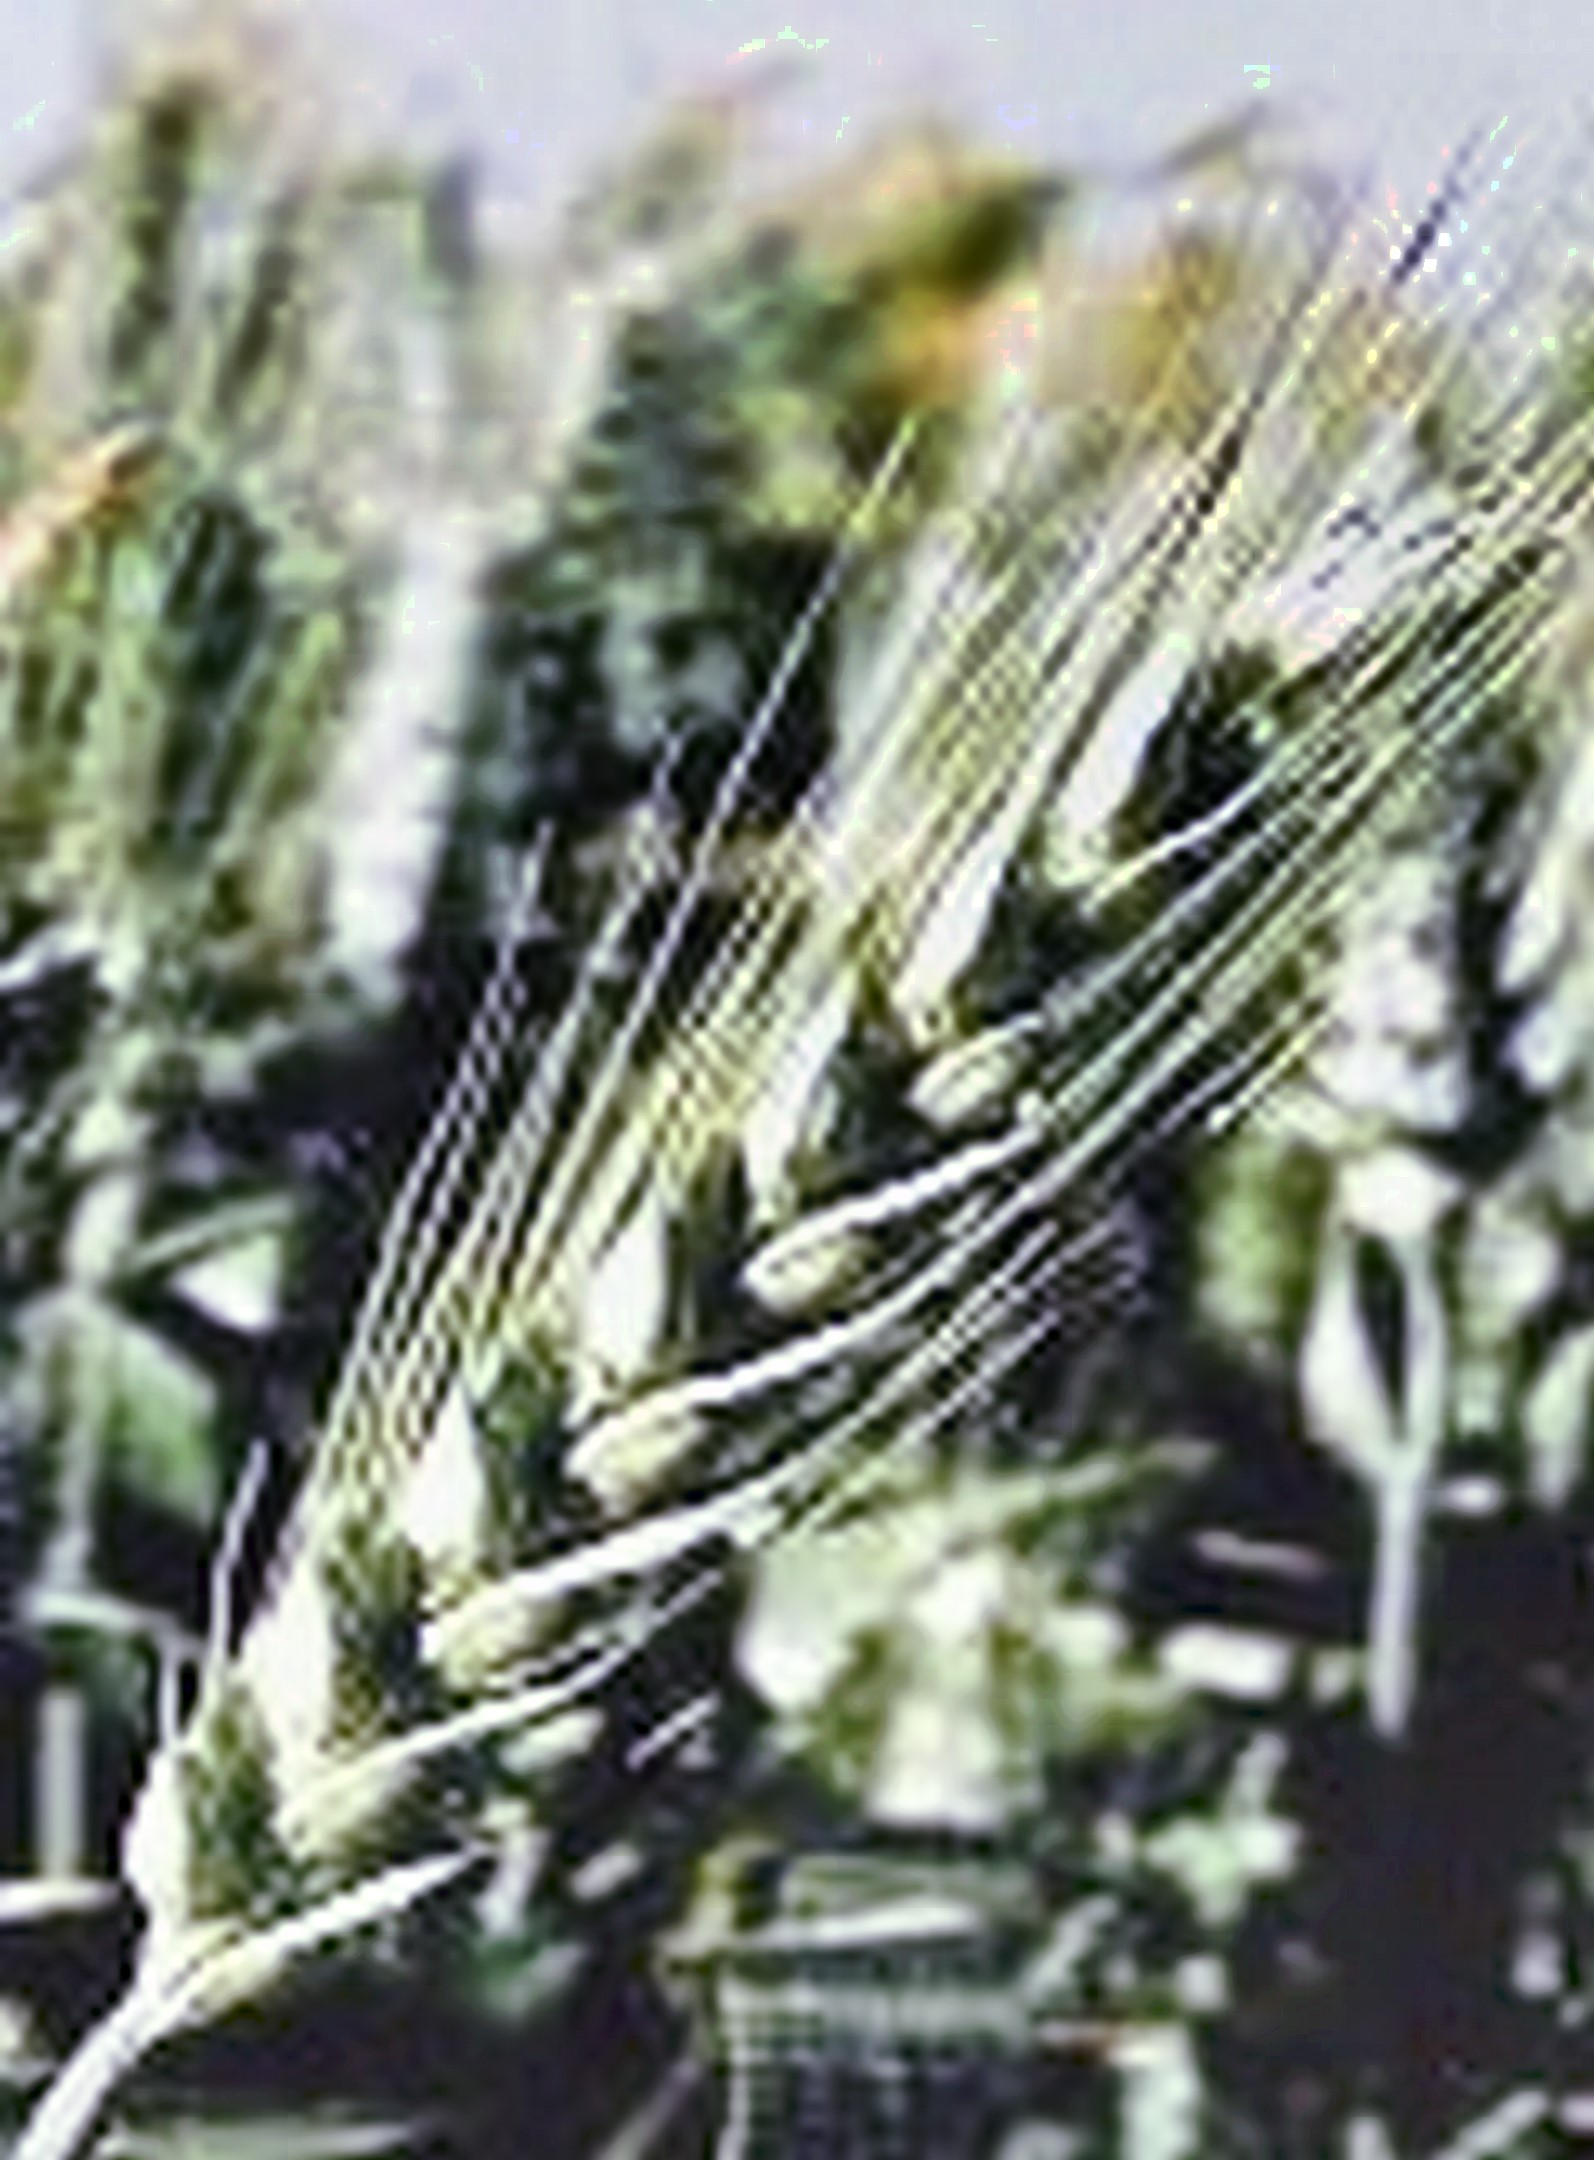Healthy Wheat: (139, 491, 1379, 2026)
